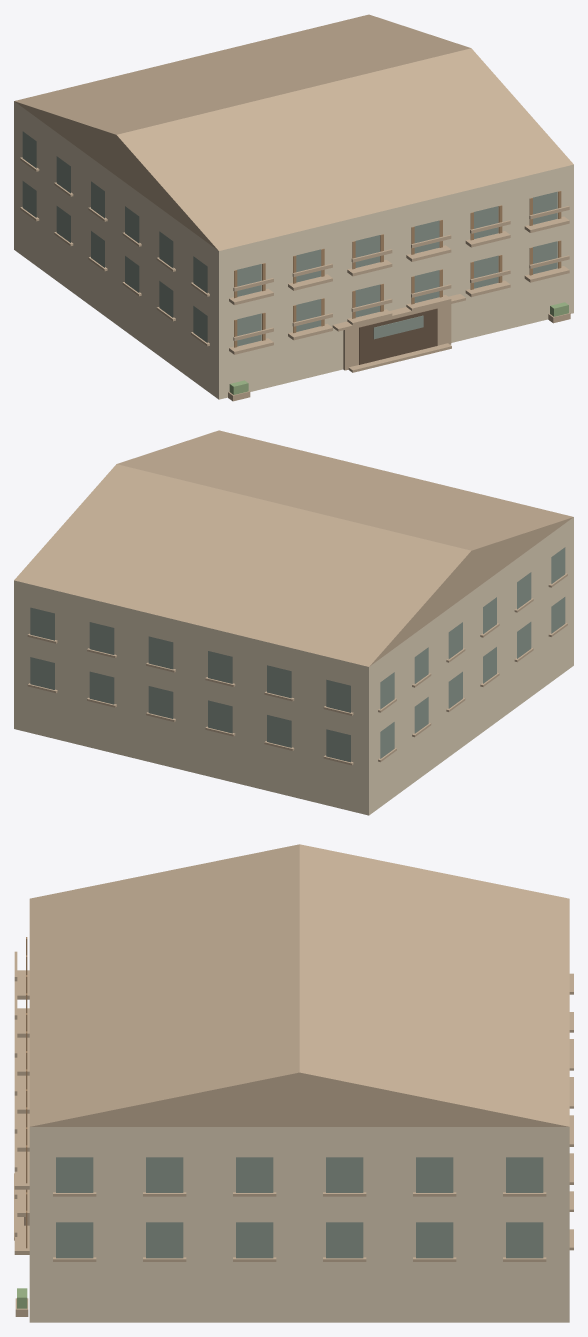
Rendered from residential_3x3_a.glb.
The picture shows the model from 3 angles, top to bottom: view 1: azimuth 30°, elevation 25°; view 2: azimuth 150°, elevation 25°; view 3: azimuth 270°, elevation 25°; orthographic projection. The views are drawn at different scales.
Parts seen in each view (by area): view 1: residential_3x3_a_0; view 2: residential_3x3_a_0; view 3: residential_3x3_a_0.
Boxes of the visible parts, <box> form: residential_3x3_a_0: <box>14,14,573,401</box>; residential_3x3_a_0: <box>14,430,573,815</box>; residential_3x3_a_0: <box>14,844,573,1322</box>.
Size of the model in its own units: 22.86 by 11.5 by 23.33.
